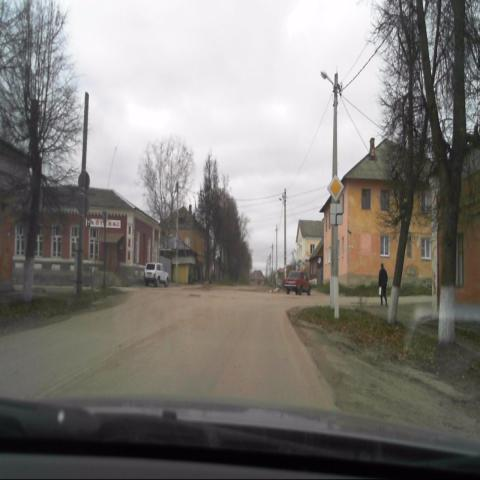8_13: (330, 201, 344, 226)
